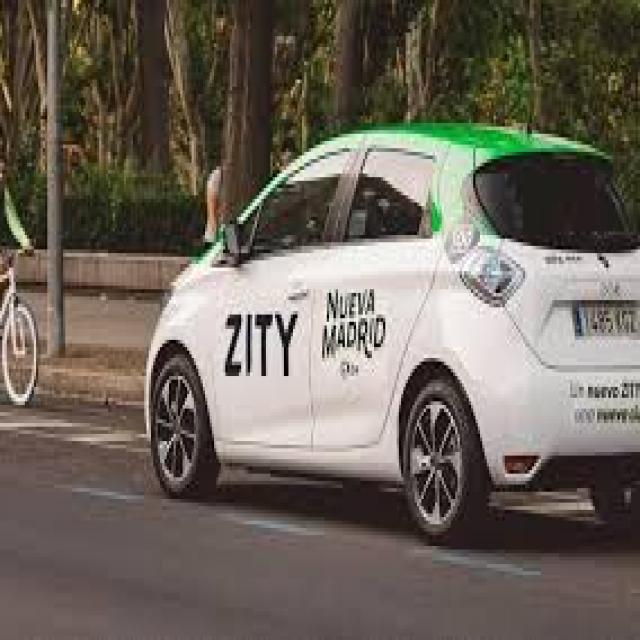Cars: (105, 106, 640, 540)
